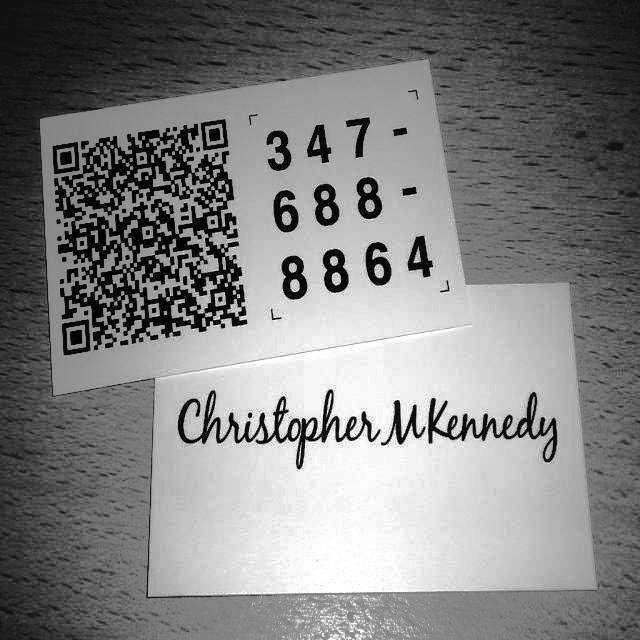qr_code: (53, 119, 248, 355)
